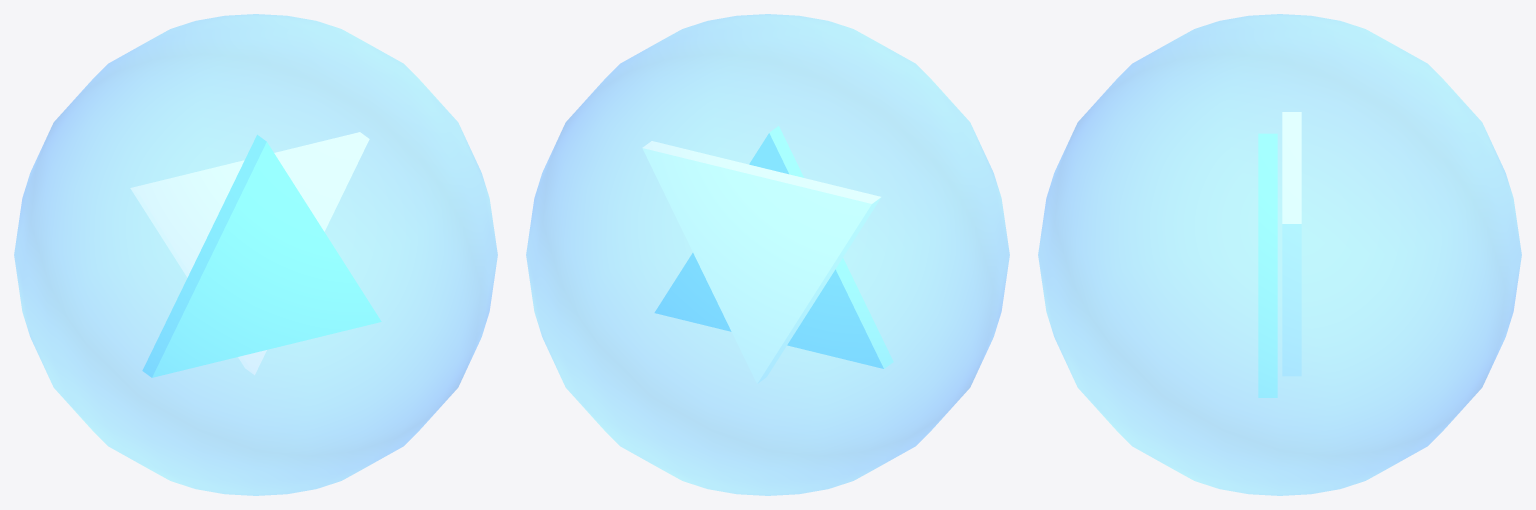
File: orb_swift.glb
3 views of the same model, side by side, from view 1: azimuth 30°, elevation 25°; view 2: azimuth 150°, elevation 25°; view 3: azimuth 270°, elevation 25° (orthographic).
Parts seen in each view (by area): view 1: orb_swift, orb_swift_core; view 2: orb_swift, orb_swift_core; view 3: orb_swift, orb_swift_core.
Boxes of the visible parts, x1,y1,x2,y2 form: orb_swift: (14, 14, 497, 495); orb_swift_core: (130, 132, 381, 377); orb_swift: (526, 14, 1009, 495); orb_swift_core: (642, 126, 893, 383); orb_swift: (1038, 14, 1521, 495); orb_swift_core: (1258, 112, 1301, 397).
Size of the model in its own units: 0.3 by 0.3 by 0.3.
